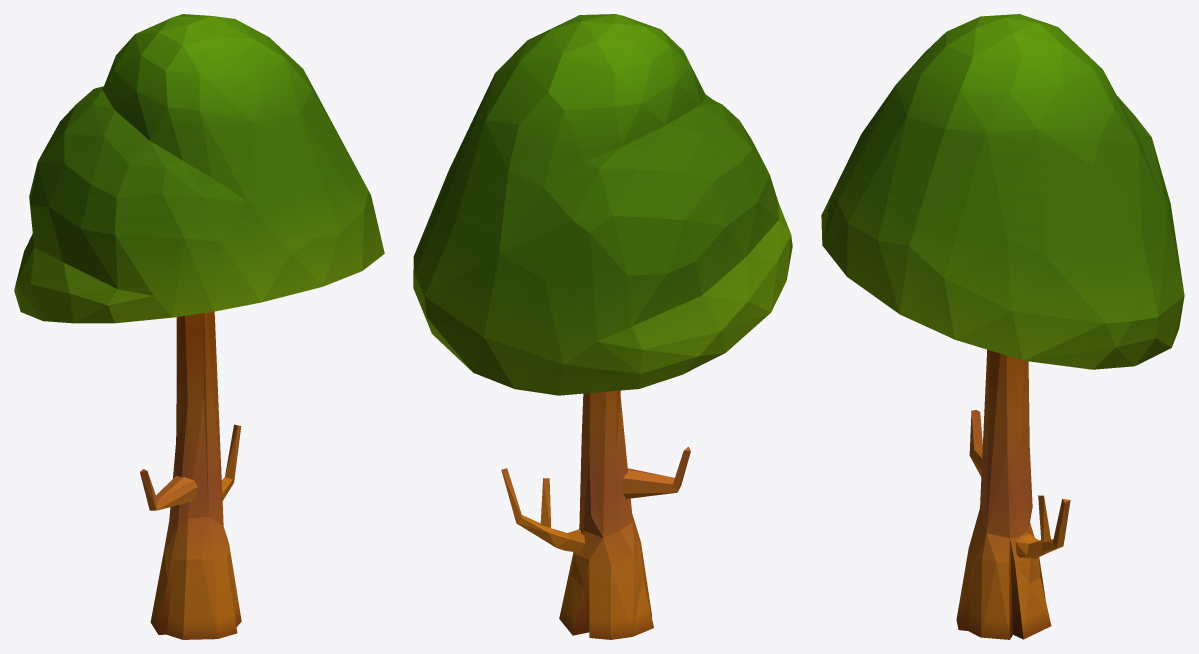
The model's file is meta_tree_3.fbx.
The picture shows the model from 3 angles, left to right: view 1: azimuth 30°, elevation 25°; view 2: azimuth 150°, elevation 25°; view 3: azimuth 270°, elevation 25°; orthographic projection.
Visible parts, largest first — view 1: meta_tree_3; view 2: meta_tree_3; view 3: meta_tree_3.
Part boxes in pixels (x1,y1,x2,y2): meta_tree_3: [14, 14, 384, 639]; meta_tree_3: [413, 14, 792, 639]; meta_tree_3: [821, 14, 1184, 639].
Bounding box in the file's own units: 116 × 207 × 114.
